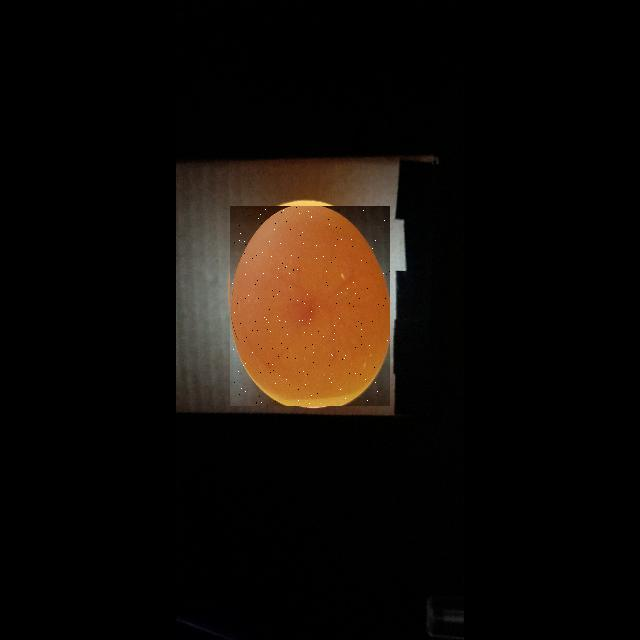Fertile: (230, 206, 390, 406)
